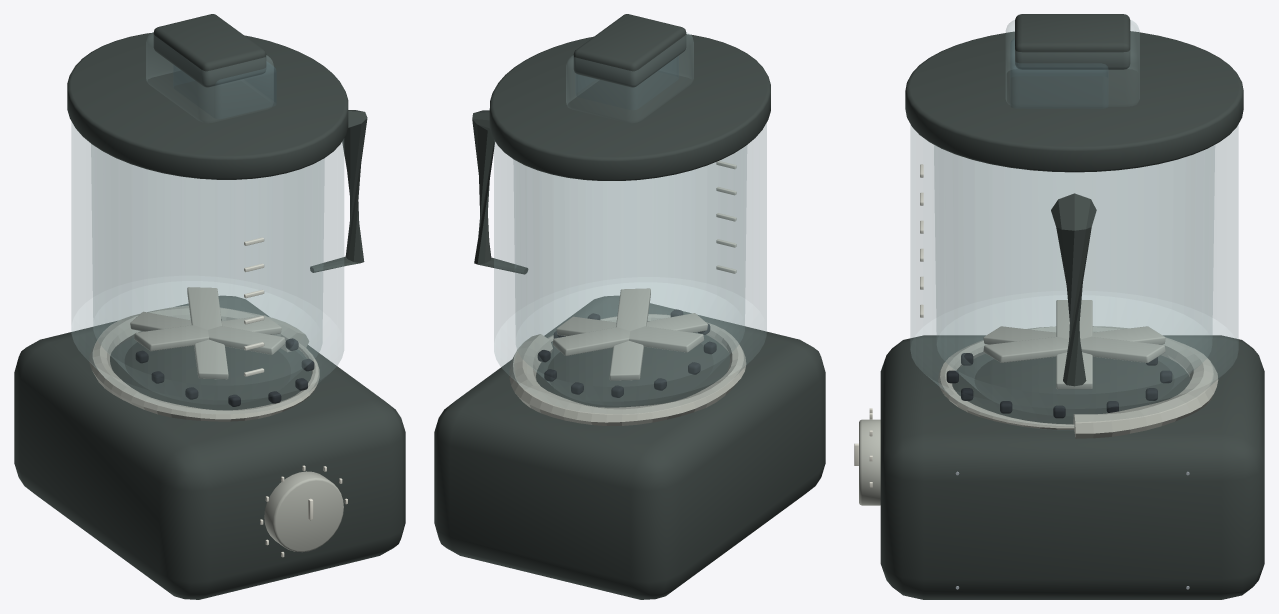
File: food-processor.glb
The picture shows the model from 3 angles, left to right: view 1: azimuth 30°, elevation 25°; view 2: azimuth 150°, elevation 25°; view 3: azimuth 270°, elevation 25°; orthographic projection. The views are drawn at different scales.
Visible parts, largest first — view 1: food-processor; view 2: food-processor; view 3: food-processor.
Part boxes in pixels (bbox=[...]): food-processor: bbox=[14, 14, 405, 599]; food-processor: bbox=[434, 14, 825, 599]; food-processor: bbox=[854, 14, 1264, 599].
Bounding box in the file's own units: 0.25 × 0.42 × 0.3.
